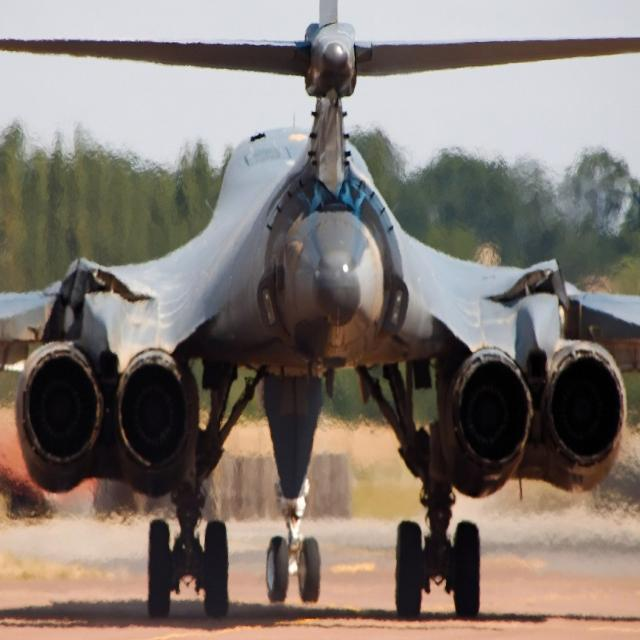MIL_Plane: (0, 1, 640, 618)
